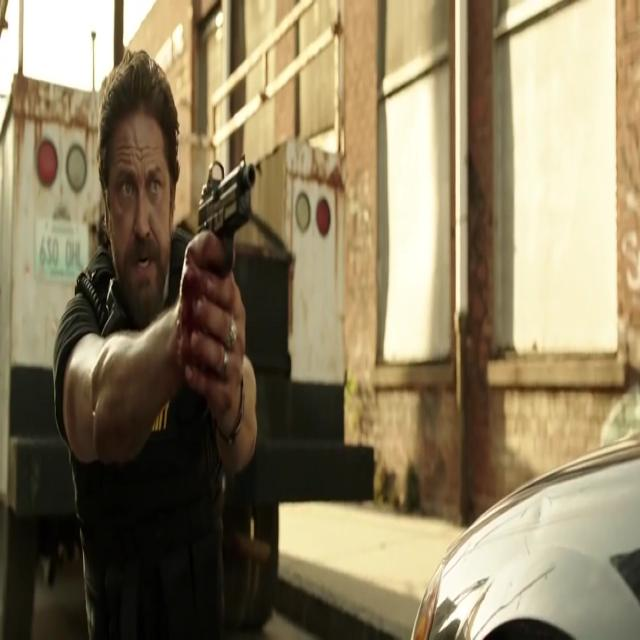Weapon: (194, 180, 264, 298)
